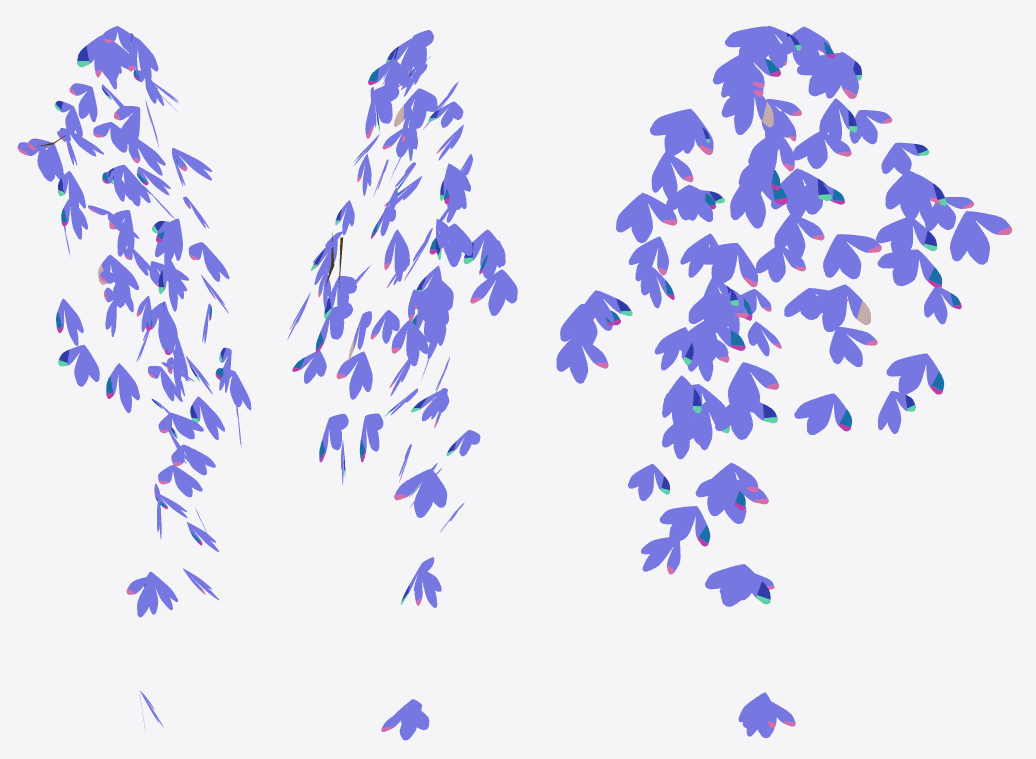
Rendered from SM_ivy_l_straight_A_LOD1.fbx.
The picture shows the model from 3 angles, left to right: view 1: azimuth 30°, elevation 25°; view 2: azimuth 150°, elevation 25°; view 3: azimuth 270°, elevation 25°; orthographic projection. The views are drawn at different scales.
Parts seen in each view (by area): view 1: SM_ivy_l_straight_A_LOD1; view 2: SM_ivy_l_straight_A_LOD1; view 3: SM_ivy_l_straight_A_LOD1.
Part boxes in pixels (box(x1,y1,x2,y2)): SM_ivy_l_straight_A_LOD1: box(17, 26, 251, 729); SM_ivy_l_straight_A_LOD1: box(287, 30, 517, 740); SM_ivy_l_straight_A_LOD1: box(556, 25, 1011, 737).
Size of the model in its own units: 48.11 by 566 by 332.
